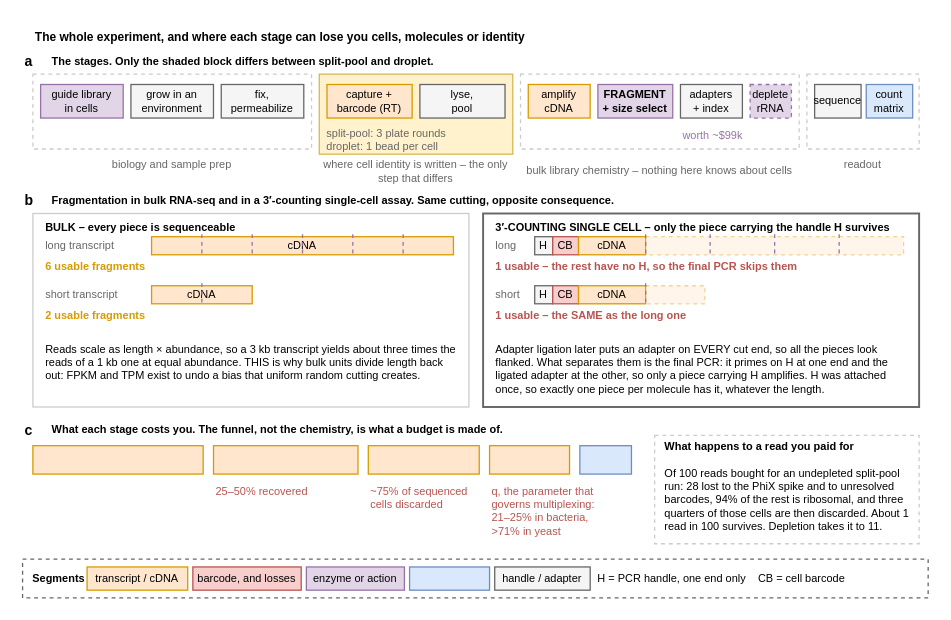
This 951x620 diagram has some shape labels left out. Each missing label, with the box of its shape:
barcoded: (212, 444, 358, 474)
cells loaded: (32, 444, 203, 474)
guide assigned: (488, 444, 570, 474)
passes QC: (367, 444, 479, 474)
usable: (579, 444, 631, 474)
what you get: (408, 566, 490, 590)
